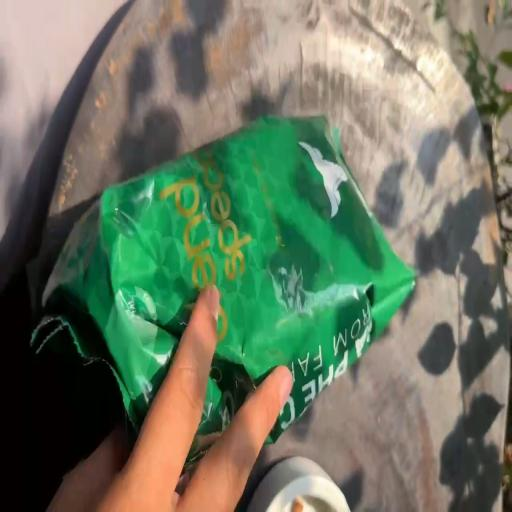cafe_xay: (32, 117, 414, 465)
